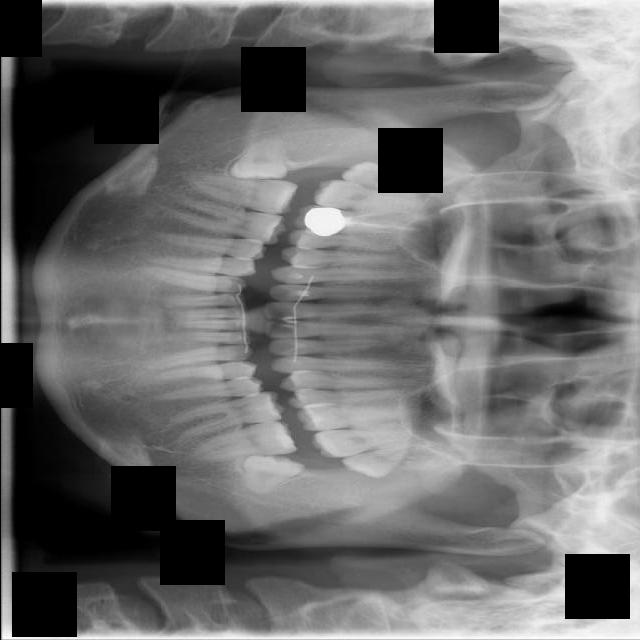3M ESPE Implant: (338, 158, 460, 200)
52: (245, 416, 297, 462), (237, 387, 286, 429), (292, 204, 346, 237), (294, 401, 348, 434), (270, 264, 323, 284), (268, 283, 323, 302), (263, 301, 318, 320), (263, 321, 317, 338)
73: (339, 202, 431, 236), (46, 598, 64, 616)
BioHorizons Implant: (310, 426, 438, 459)
BioLife Implant: (339, 438, 437, 485)
Biomet 3i Implant: (232, 434, 306, 501)
Blue Sky Bio Implant: (180, 418, 298, 466)
Caries: (311, 177, 432, 218)
Implant: (181, 173, 299, 216)
Keystone Dental Implant: (225, 136, 287, 183)
